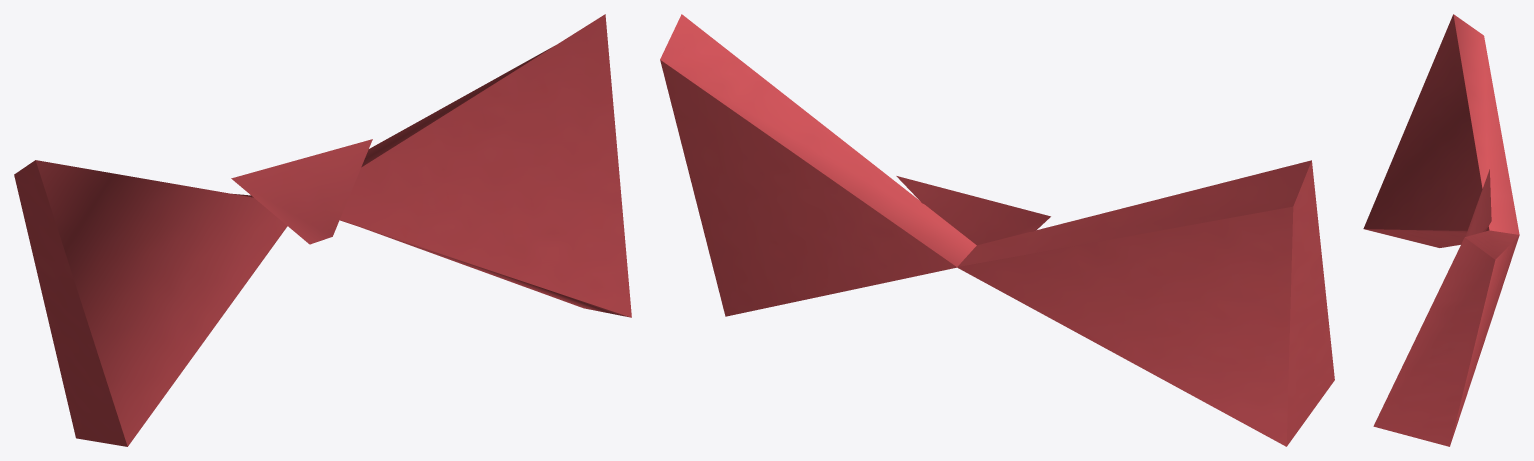
File: BowTie.FBX
3 views of the same model, side by side, from view 1: azimuth 30°, elevation 25°; view 2: azimuth 150°, elevation 25°; view 3: azimuth 270°, elevation 25° (orthographic). The views are drawn at different scales.
Visible parts, largest first — view 1: BowTie; view 2: BowTie; view 3: BowTie.
Boxes of the visible parts, x1,y1,x2,y2 form: BowTie: (14,14,631,446); BowTie: (660,14,1334,446); BowTie: (1363,14,1519,446).
Bounding box in the file's own units: 116 × 34.11 × 53.43.
1 material, 1 textured.
